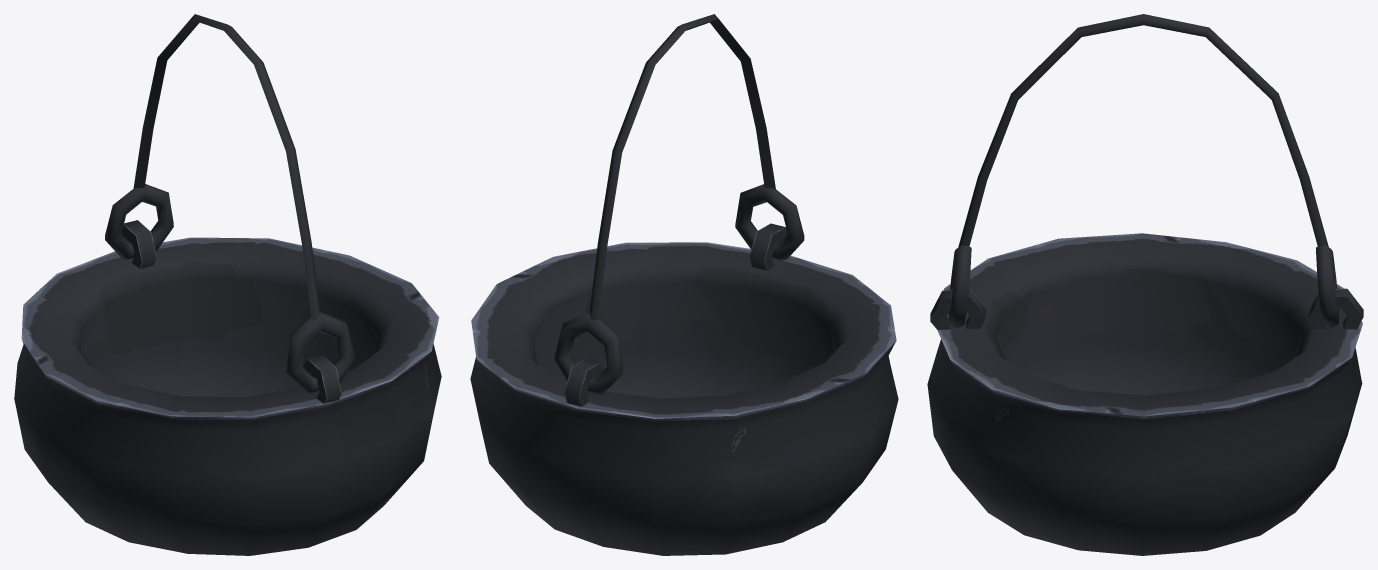
File: SM_PROP_cookingpot_dungeon_01.fbx
3 renders of one model, left to right at view 1: azimuth 30°, elevation 25°; view 2: azimuth 150°, elevation 25°; view 3: azimuth 270°, elevation 25°, orthographic. The views are drawn at different scales.
Visible parts, largest first — view 1: SM_PROP_cookingpot_dungeon_01, SM_PROP_cookingpot_handle_dungeon_01; view 2: SM_PROP_cookingpot_dungeon_01, SM_PROP_cookingpot_handle_dungeon_01; view 3: SM_PROP_cookingpot_dungeon_01, SM_PROP_cookingpot_handle_dungeon_01.
Boxes of the visible parts, <box> form: SM_PROP_cookingpot_dungeon_01: <box>14,220,441,555</box>; SM_PROP_cookingpot_handle_dungeon_01: <box>105,14,354,393</box>; SM_PROP_cookingpot_dungeon_01: <box>470,223,898,555</box>; SM_PROP_cookingpot_handle_dungeon_01: <box>554,14,804,394</box>; SM_PROP_cookingpot_dungeon_01: <box>927,233,1363,555</box>; SM_PROP_cookingpot_handle_dungeon_01: <box>948,14,1338,328</box>.
Bounding box in the file's own units: 35.47 × 43.81 × 34.93.
